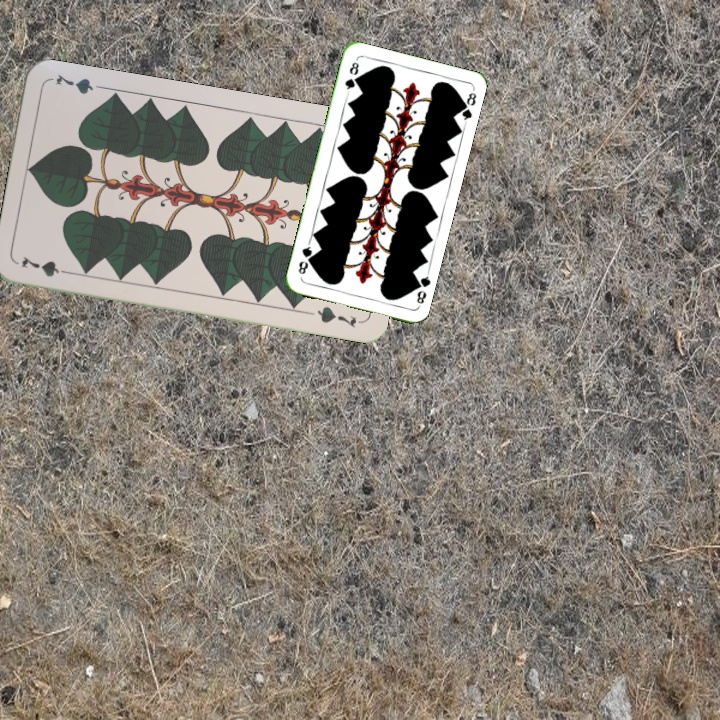G7: (17, 252, 76, 280)
G8: (409, 269, 433, 309), (341, 58, 362, 96)
